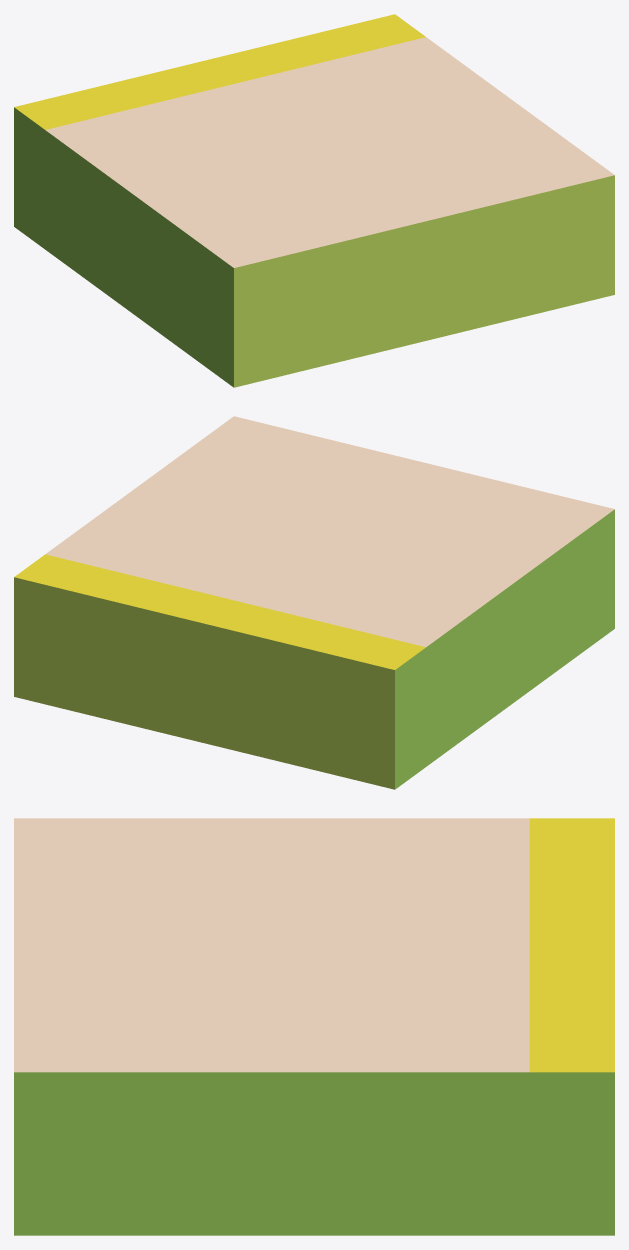
Rendered from floor_basic2.fbx.
3 renders of one model, top to bottom at view 1: azimuth 30°, elevation 25°; view 2: azimuth 150°, elevation 25°; view 3: azimuth 270°, elevation 25°, orthographic. The views are drawn at different scales.
Parts seen in each view (by area): view 1: floor_basic2; view 2: floor_basic2; view 3: floor_basic2.
Part boxes in pixels (<box>): floor_basic2: <box>14,14,614,387</box>; floor_basic2: <box>14,416,614,789</box>; floor_basic2: <box>14,818,614,1235</box>.
Size of the model in its own units: 100 by 30 by 100.
